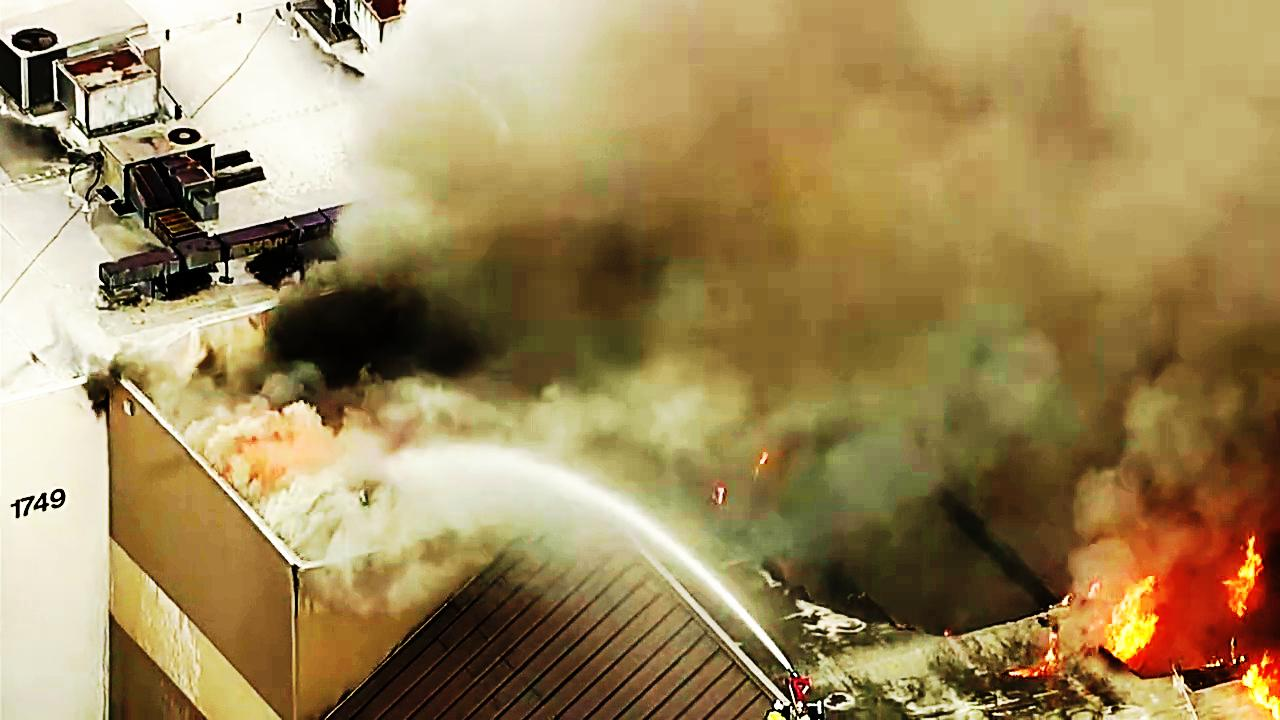fire: (1090, 553, 1280, 689)
